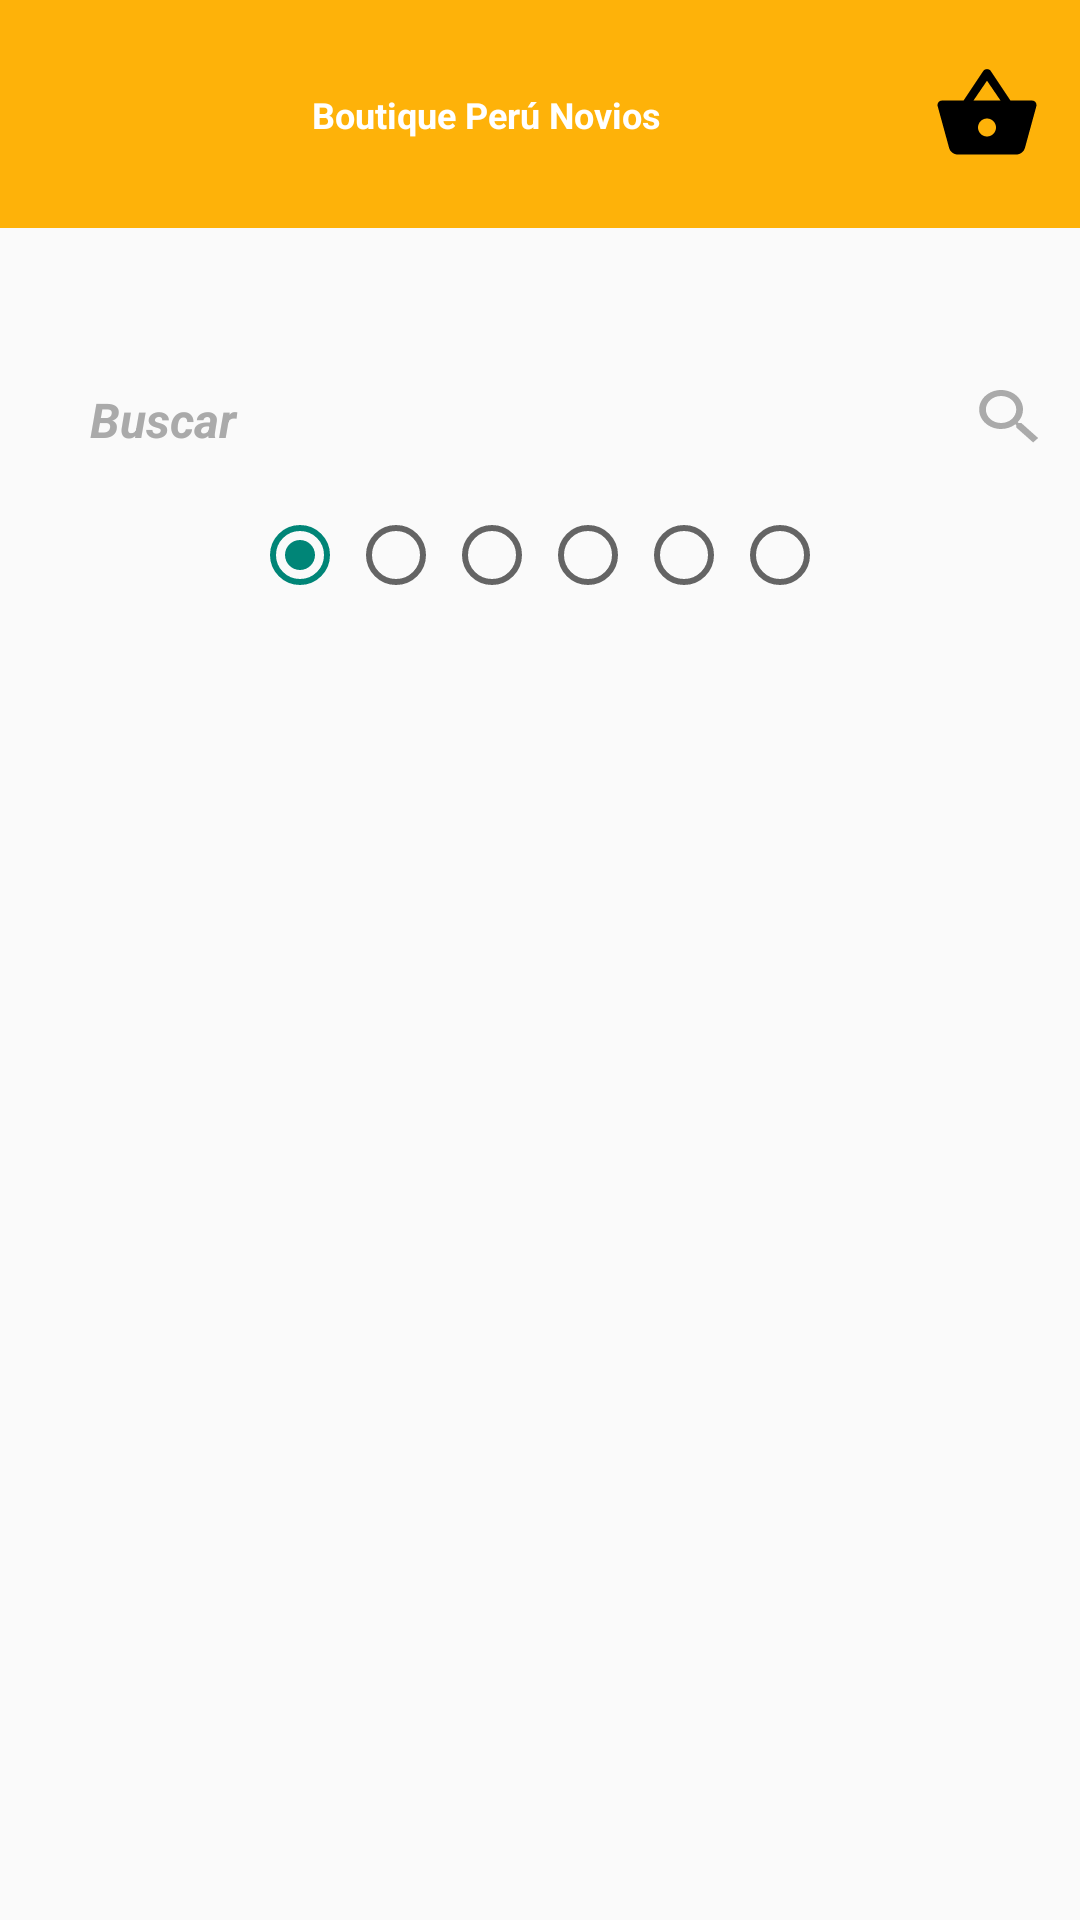

Icon bounding boxes for this 1080*1920 phone screenshot, format (x1, y1, x2, y2):
shopping basket: (937, 69, 1037, 155)
